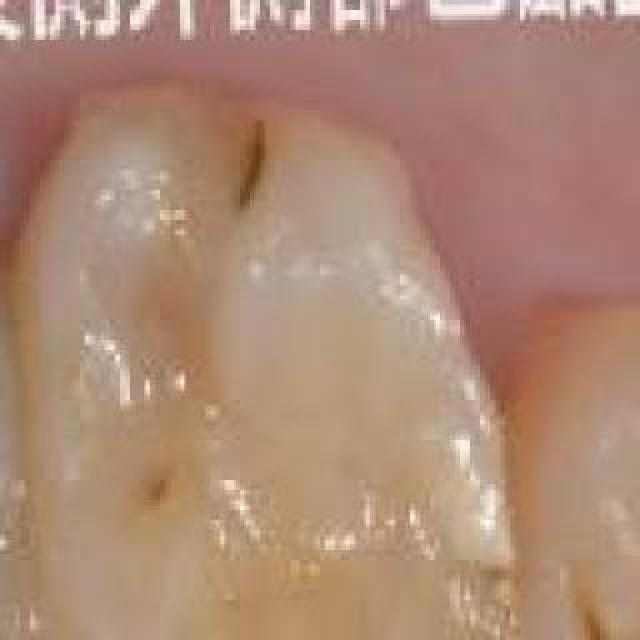cavities: (554, 590, 640, 640), (235, 125, 265, 215)
